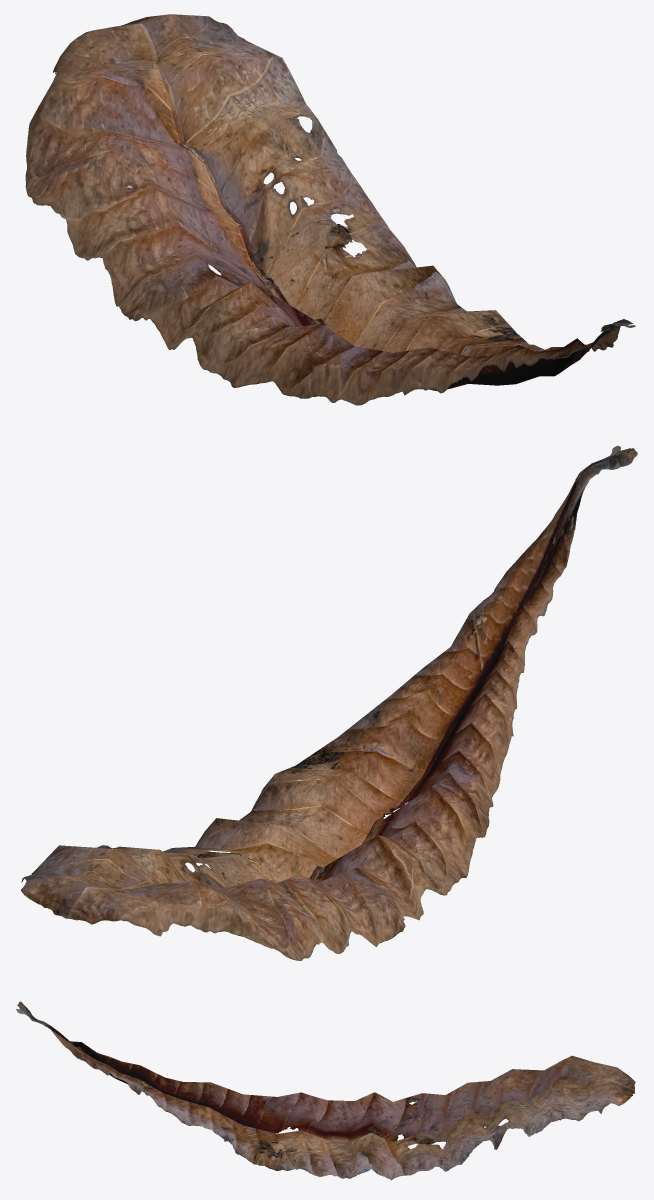
Rendered from 3D_Leaf_07.obj.
3 views of the same model, one above another, from view 1: azimuth 30°, elevation 25°; view 2: azimuth 150°, elevation 25°; view 3: azimuth 270°, elevation 25° (orthographic). The views are drawn at different scales.
Parts seen in each view (by area): view 1: Leaves_07; view 2: Leaves_07; view 3: Leaves_07.
Boxes of the visible parts, box(x1,y1,x2,y2) form: Leaves_07: box(25, 14, 635, 405); Leaves_07: box(21, 445, 637, 960); Leaves_07: box(16, 1001, 635, 1180).
Bounding box in the file's own units: 0.0512 × 0.0433 × 0.1728.
1 material, 1 textured.
